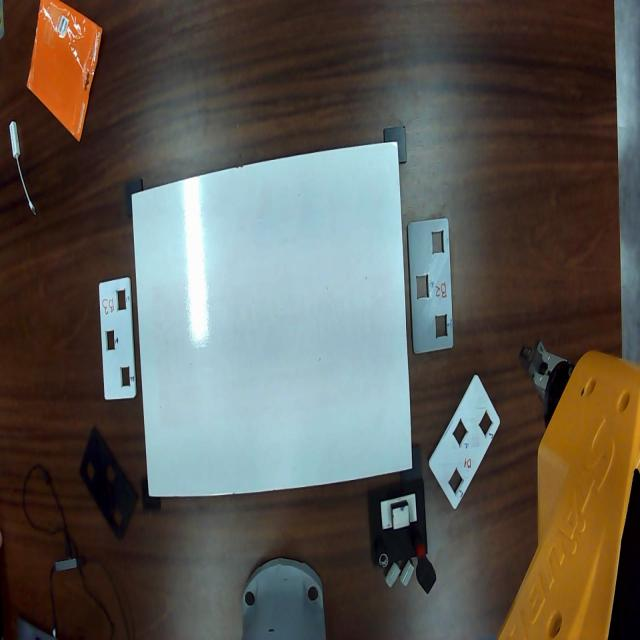default_frame: (131, 142, 413, 497)
